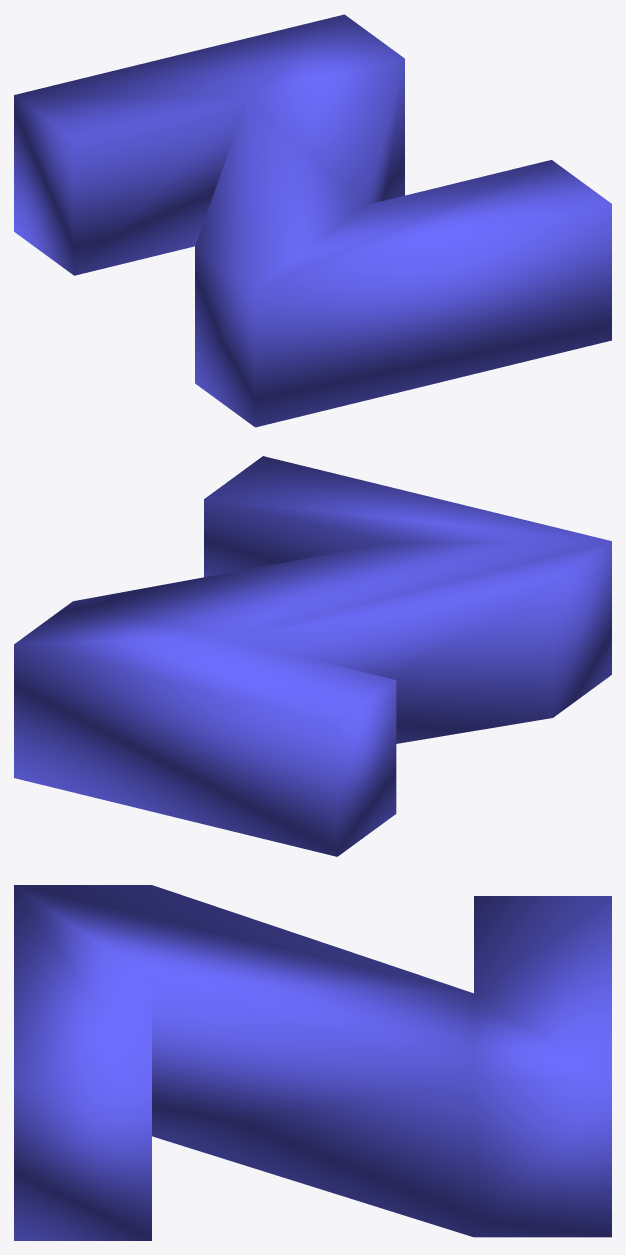
3 renders of one model, top to bottom at view 1: azimuth 30°, elevation 25°; view 2: azimuth 150°, elevation 25°; view 3: azimuth 270°, elevation 25°, orthographic. The views are drawn at different scales.
Parts seen in each view (by area): view 1: Z1; view 2: Z1; view 3: Z1.
Boxes of the visible parts, x1,y1,x2,y2 form: Z1: (14,14,611,427); Z1: (14,456,611,856); Z1: (14,885,611,1240).
Bounding box in the file's own units: 16.14 × 5.91 × 20.46.
